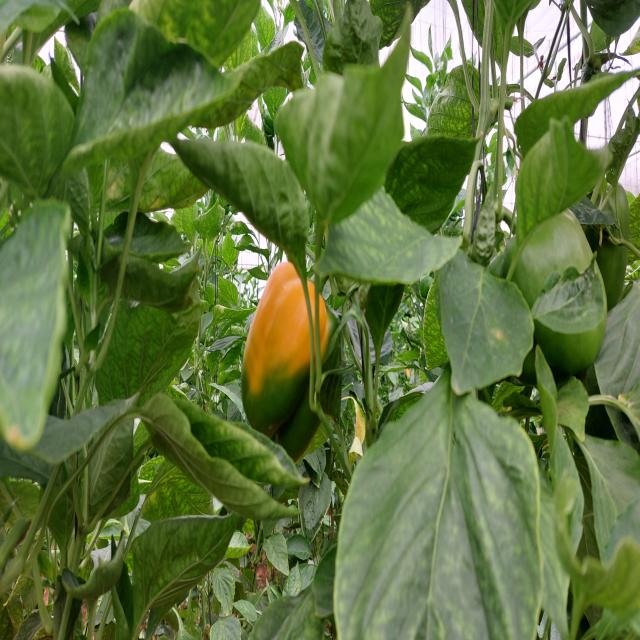GreenishYellow--Can-be-Harvested: (227, 219, 350, 472)
